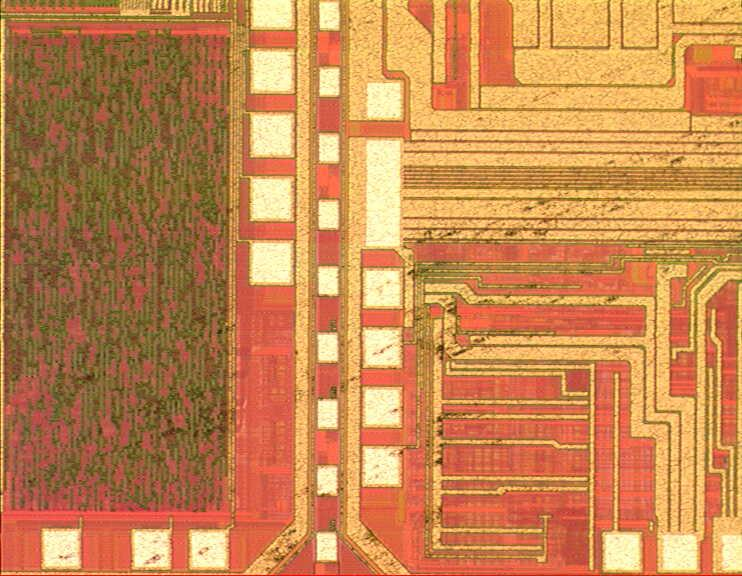SCRATCH: (1, 1, 742, 576)
